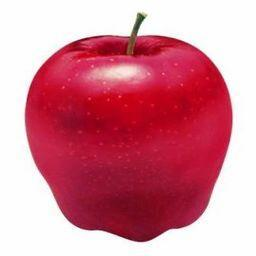apple: (25, 29, 235, 242)
